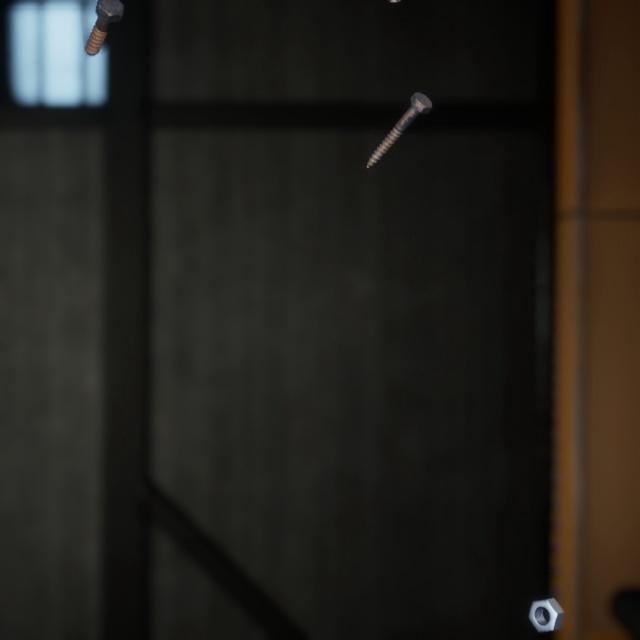bolt: (362, 76, 436, 160), (80, 0, 128, 52)
nut: (523, 569, 568, 613)
